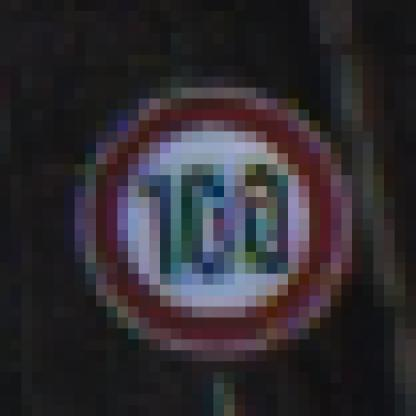Speed Limit 100: (93, 91, 347, 351)
